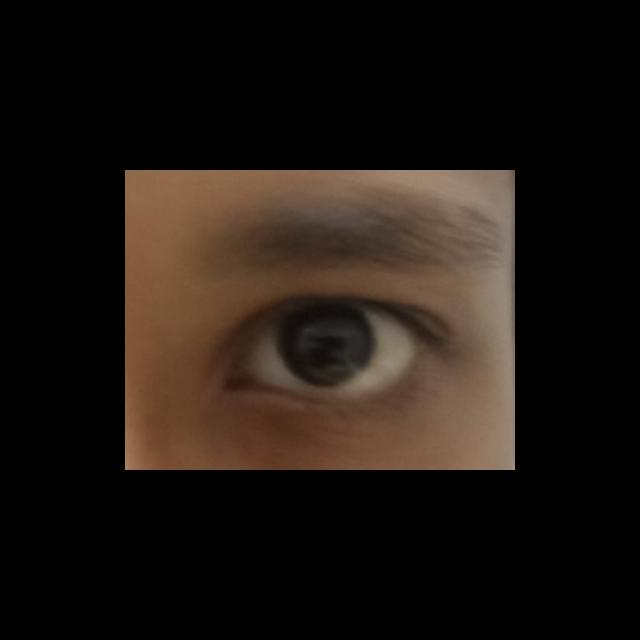eye: (242, 301, 421, 404)
iris: (276, 306, 376, 388)
